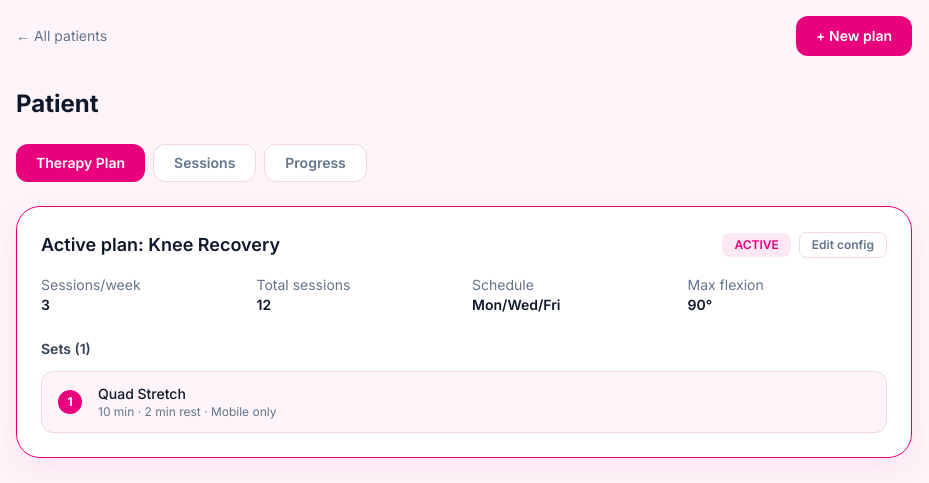
Test: PatientDetailPage › switching to Sessions tab shows session rows
The width and height of the screenshot is (929, 483).
Click the button "Sessions".
click(205, 163)  # box [153,144,256,182]
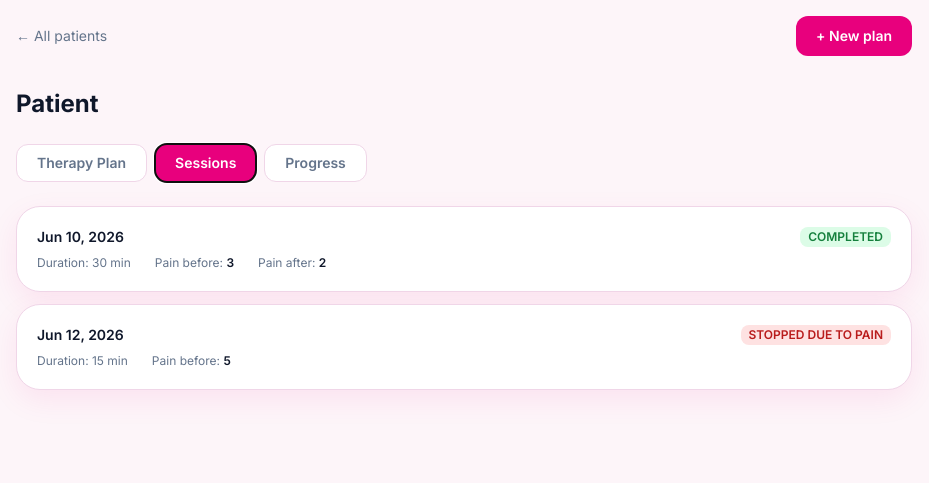
Expected: the text "COMPLETED" is shown, [800,227,891,247]
Expected: the text "STOPPED DUE TO PAIN" is shown, [740,325,891,345]
